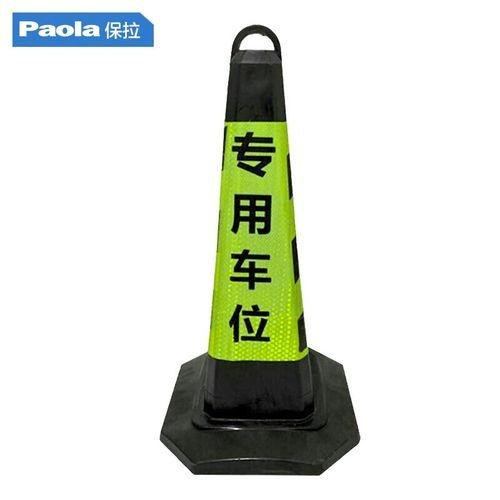cone_barrel: (160, 33, 345, 456)
